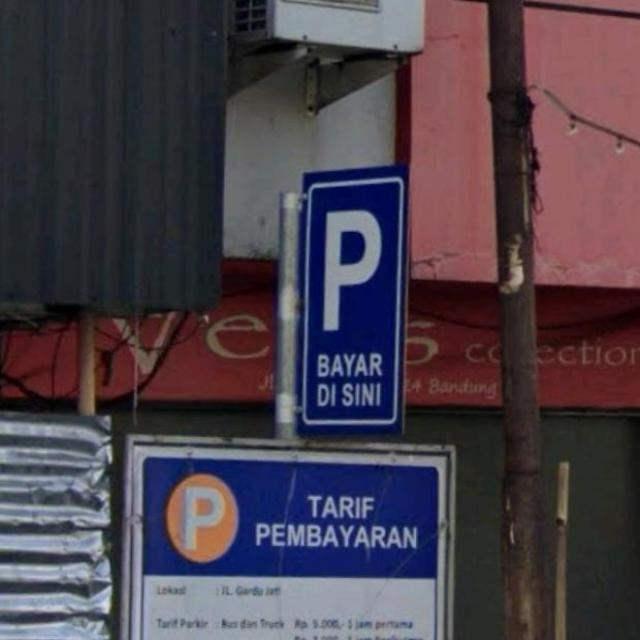traffic sign: (297, 167, 404, 432)
